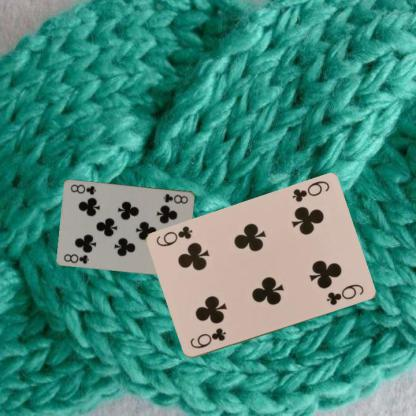6c: (289, 178, 330, 204), (187, 325, 227, 350)
8c: (160, 190, 190, 204), (61, 251, 91, 265)
